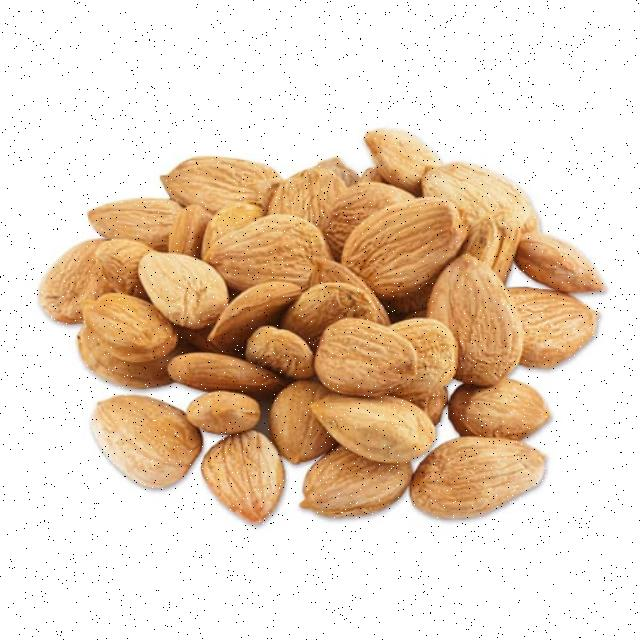cekirdek: (460, 272, 516, 364), (333, 323, 402, 393), (107, 410, 173, 474), (371, 220, 435, 278), (452, 453, 533, 498), (227, 439, 280, 501), (159, 254, 215, 308), (466, 180, 526, 229), (182, 394, 251, 436), (314, 467, 373, 513), (279, 394, 318, 459), (193, 168, 270, 200), (470, 378, 523, 424), (110, 318, 166, 360), (380, 136, 438, 176), (330, 410, 398, 444), (268, 335, 319, 375), (226, 243, 312, 259), (194, 362, 235, 386)
